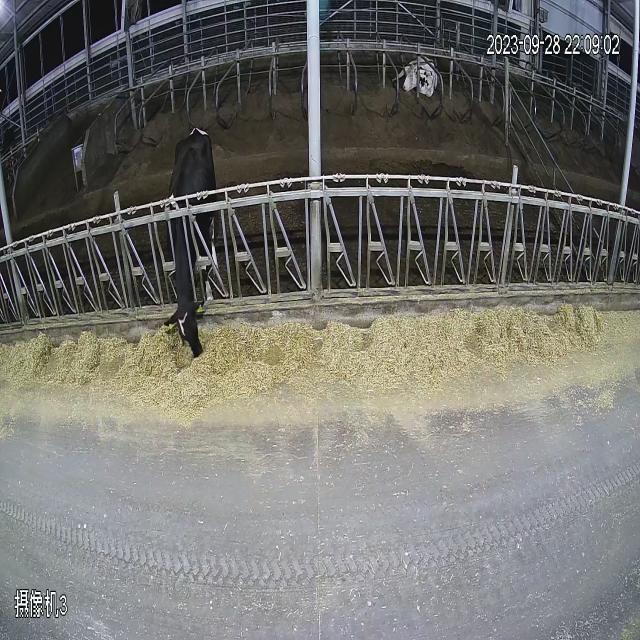feeding: (164, 83, 229, 461)
lying down: (386, 17, 458, 120)
